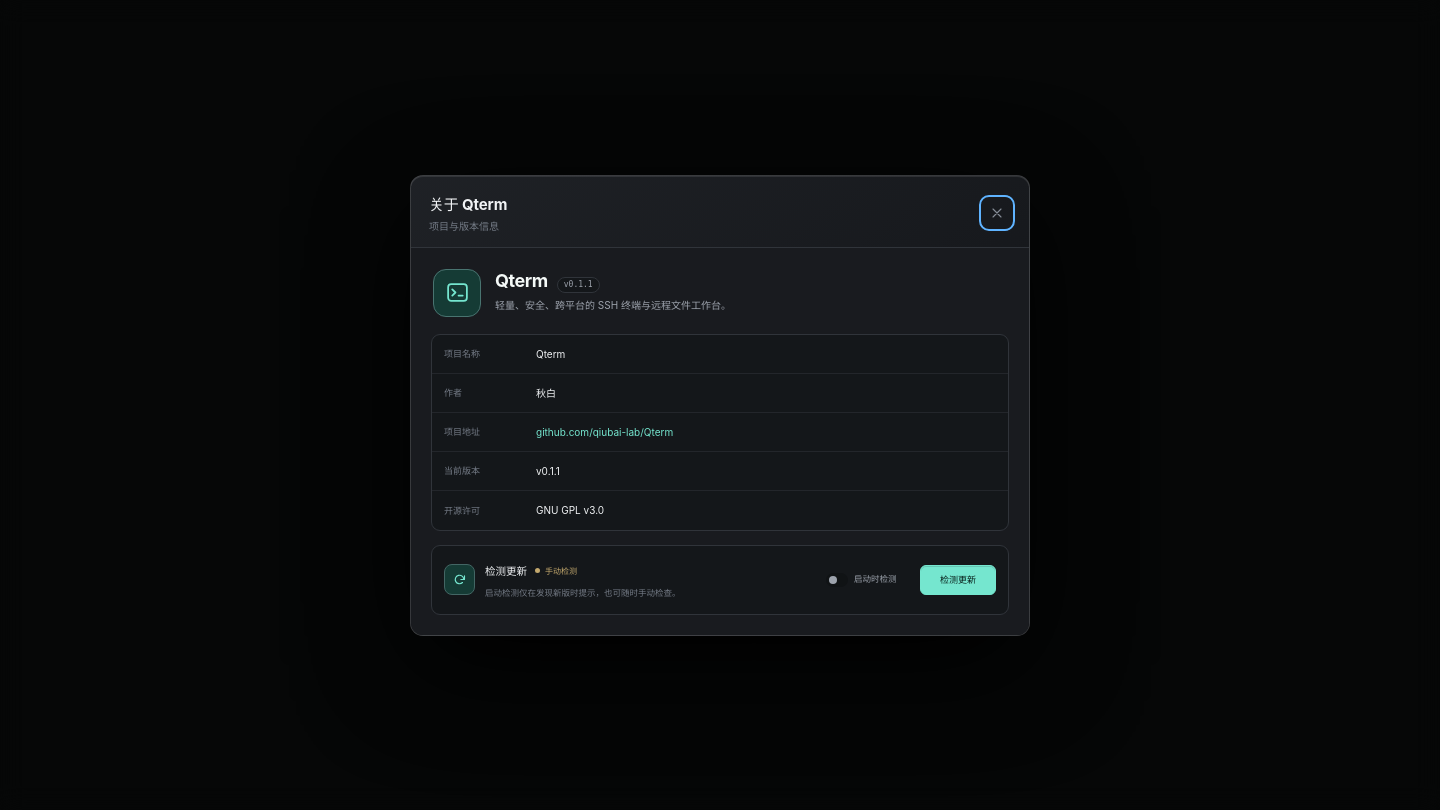
Test: HelpDialog › keeps the startup update preference unchanged and reports save failures locally
Click the switch named "启动时自动检测更新" at (865, 580), box [817,564,913,594]
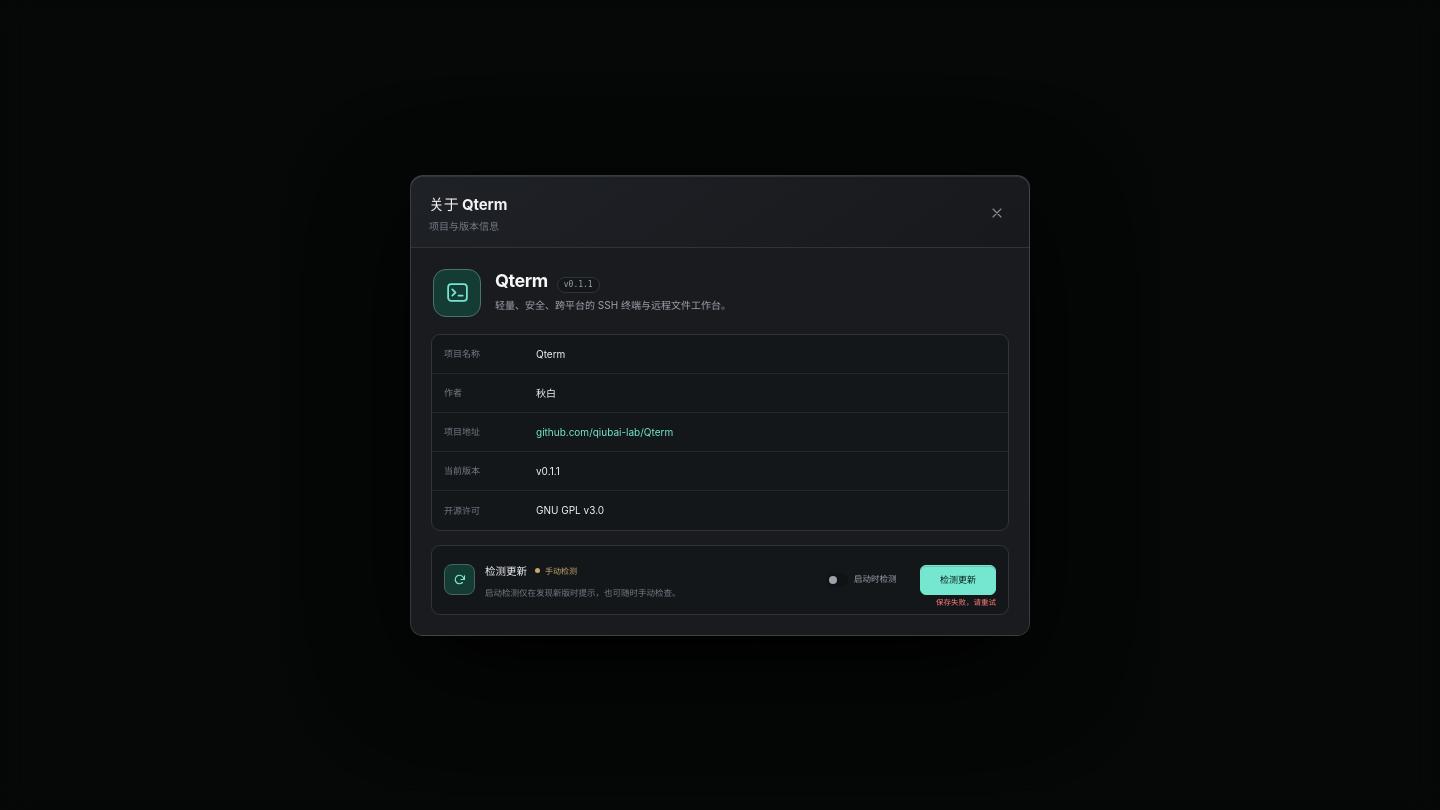
Check: the message reads "保存失败，请重试", box [936,598,996,606]
